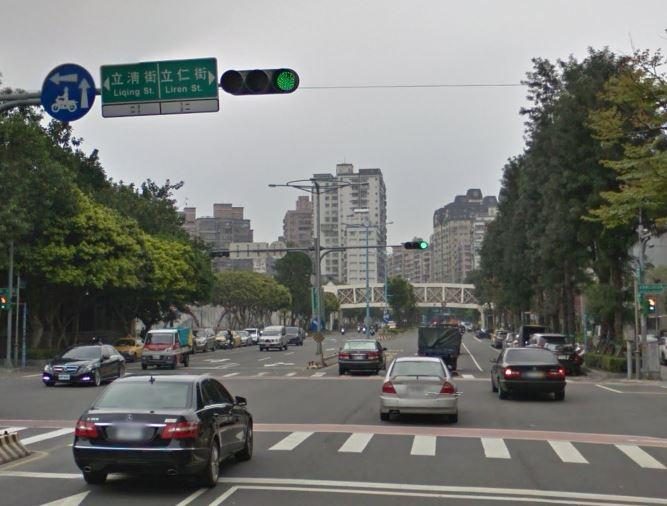green_traffic_light: (219, 68, 299, 98), (402, 239, 429, 252)
